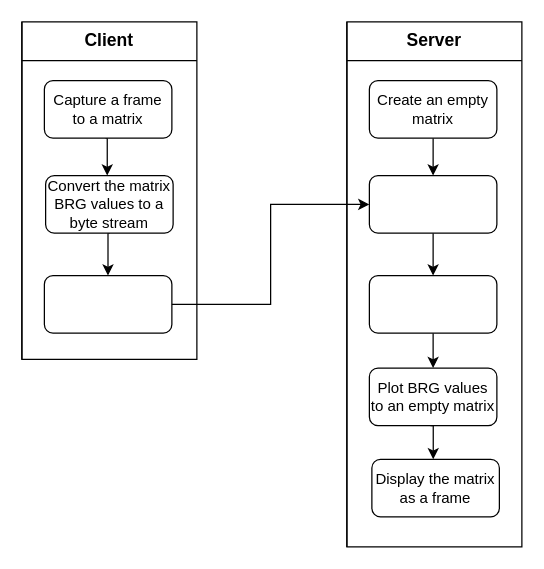
This 544x569 diagram has some shape labels left out. The shapes that lost their labels are listed below. From the top down, each one's box as (x1, y1, x2, y2) in pixels, then its label:
(368, 174, 497, 233): Receive the byte stream
(43, 274, 172, 333): Send the byte stream
(368, 274, 497, 333): Convert the byte stream to BRG values
